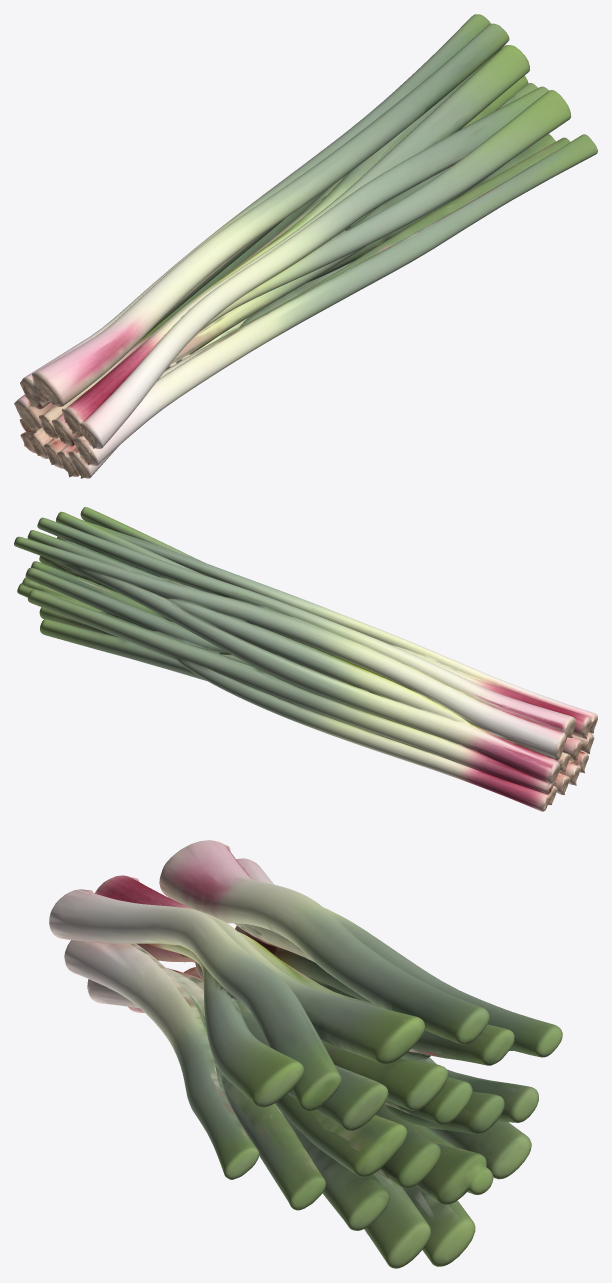
The model's file is xiangmaocao.glb.
The picture shows the model from 3 angles, top to bottom: view 1: azimuth 30°, elevation 25°; view 2: azimuth 150°, elevation 25°; view 3: azimuth 270°, elevation 25°; orthographic projection. The views are drawn at different scales.
Visible parts, largest first — view 1: node_0; view 2: node_0; view 3: node_0.
Boxes of the visible parts, box(x1,y1,x2,y2) form: node_0: box(14, 14, 597, 478); node_0: box(14, 507, 597, 811); node_0: box(49, 840, 562, 1268).
Size of the model in its own units: 1.09 by 0.4728 by 0.4971.
1 material, 1 textured.
